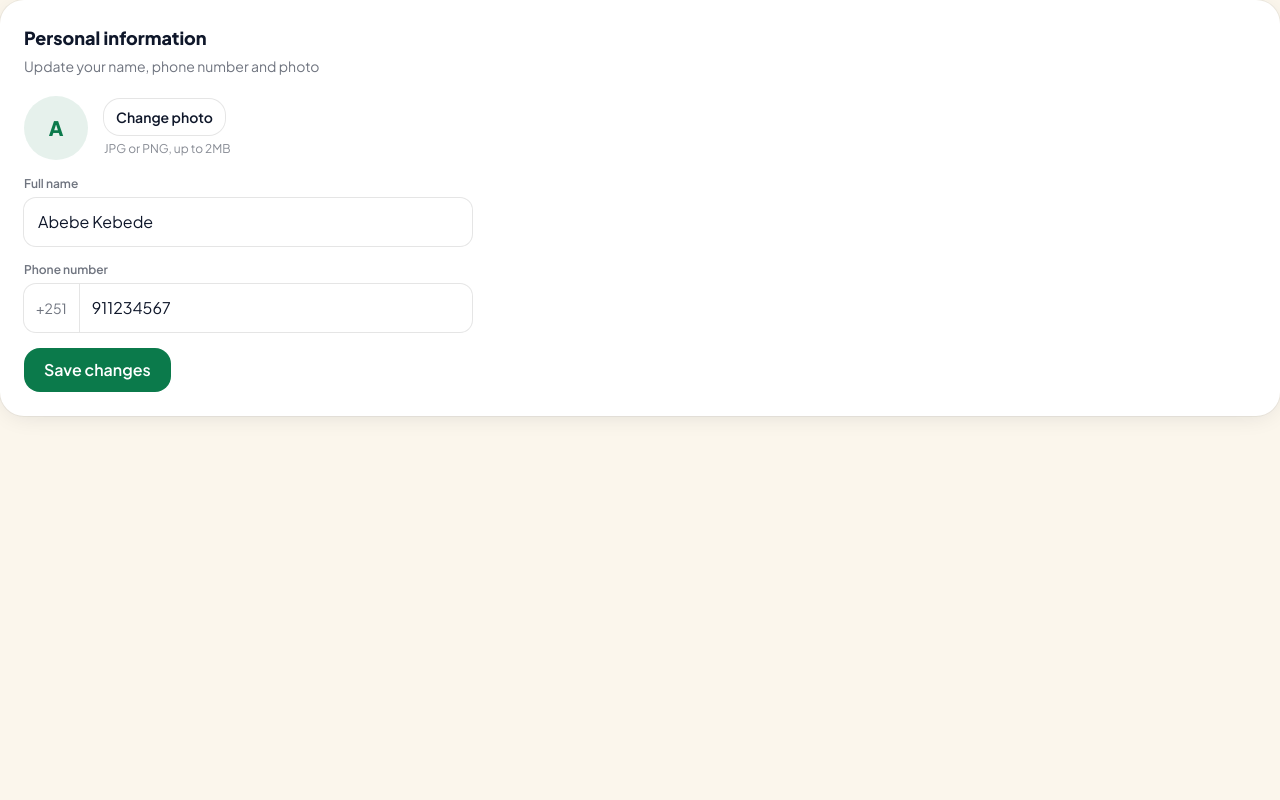
Test: AccountProfile › saves name and phone changes via PATCH /me/profile
The width and height of the screenshot is (1280, 800).
Step 1. Replace the text in the field labelled "Full name" with "New Name" → (248, 222), box [24,198,472,246]
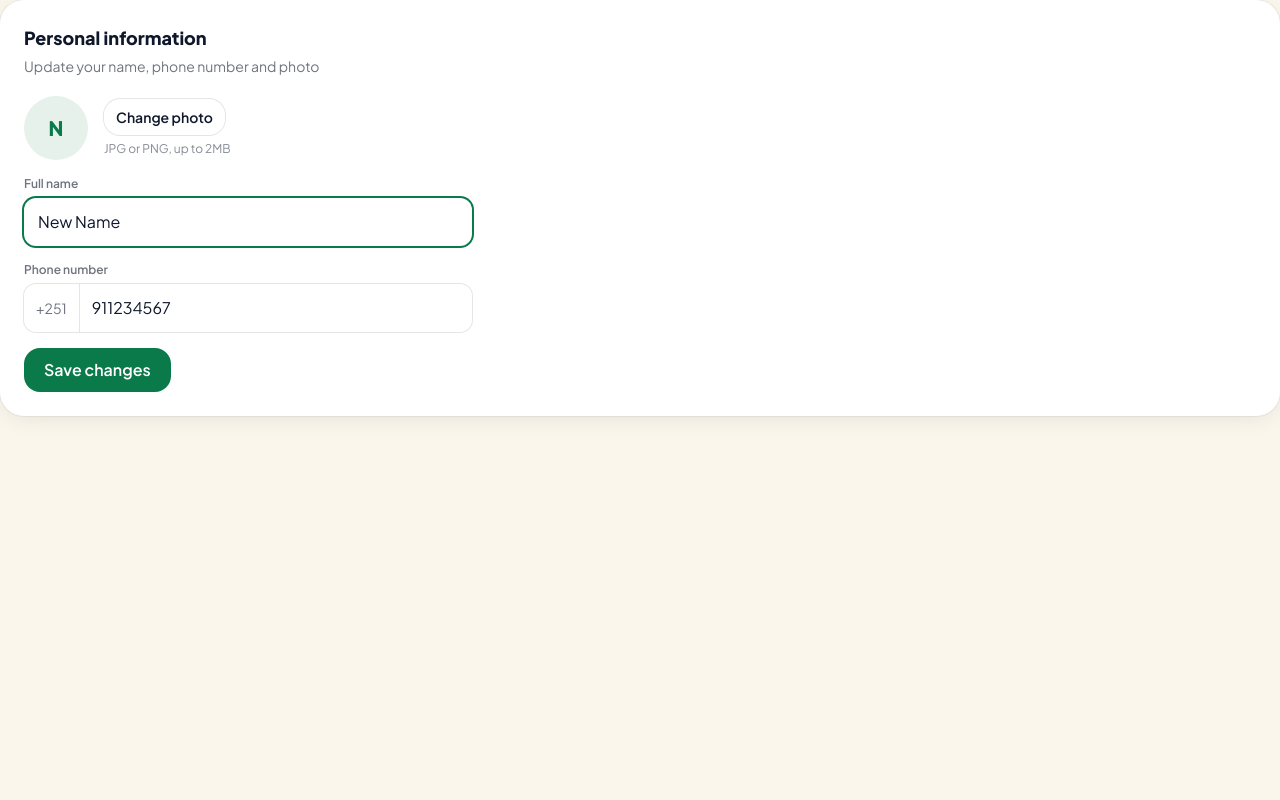
Step 2. Click the button "Save changes" → (97, 370), box [24,348,171,392]
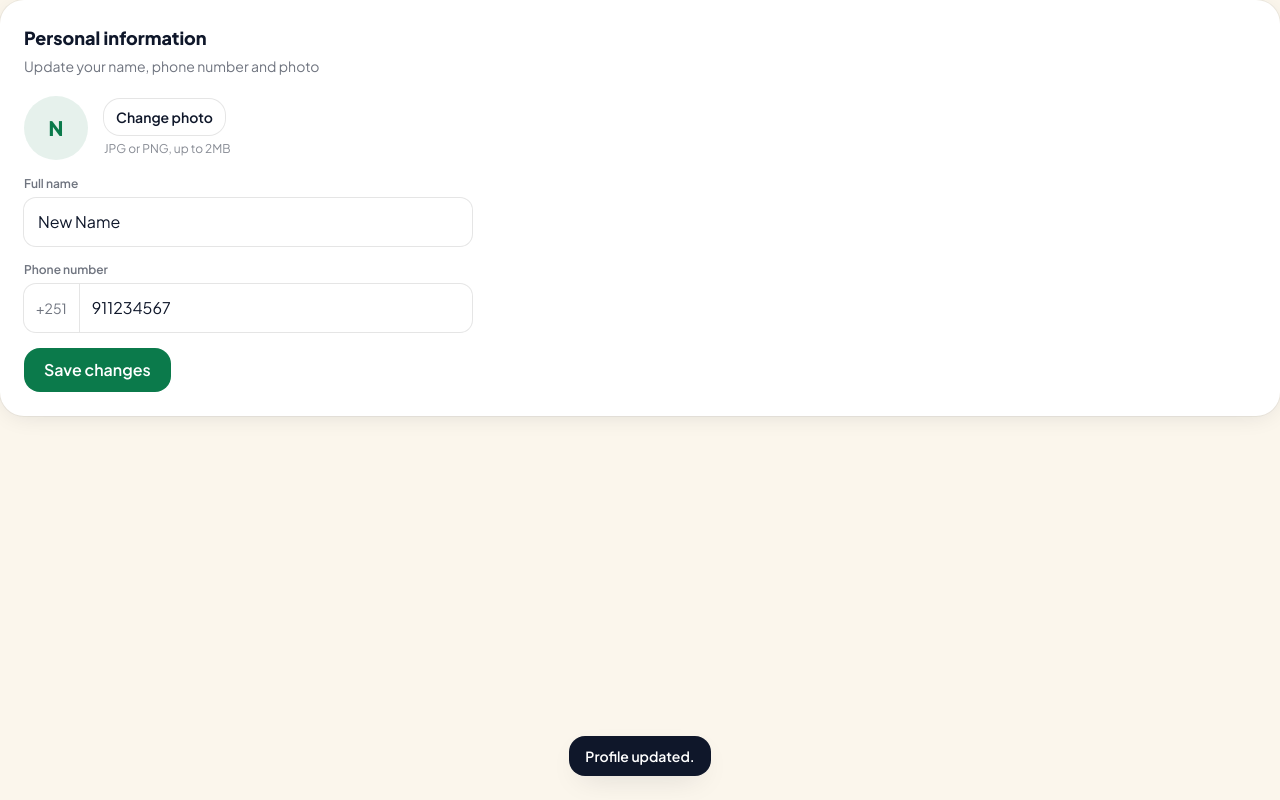
Expected: the text "Profile updated." is shown, [569,736,711,776]
